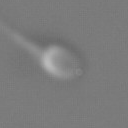normal: (1, 14, 42, 57)
